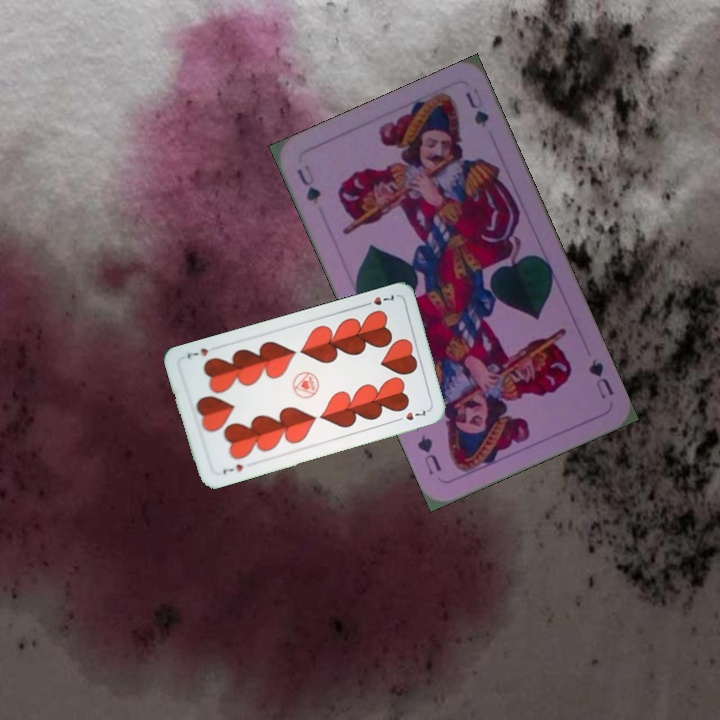GU: (584, 354, 617, 401), (293, 160, 324, 207)
H7: (359, 290, 398, 309), (219, 460, 245, 477)
